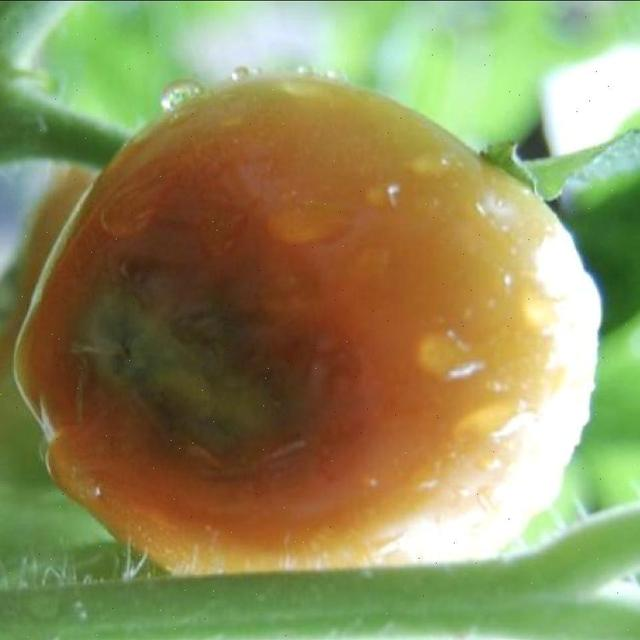Blossom End Rot Fruit: (45, 134, 240, 330)
